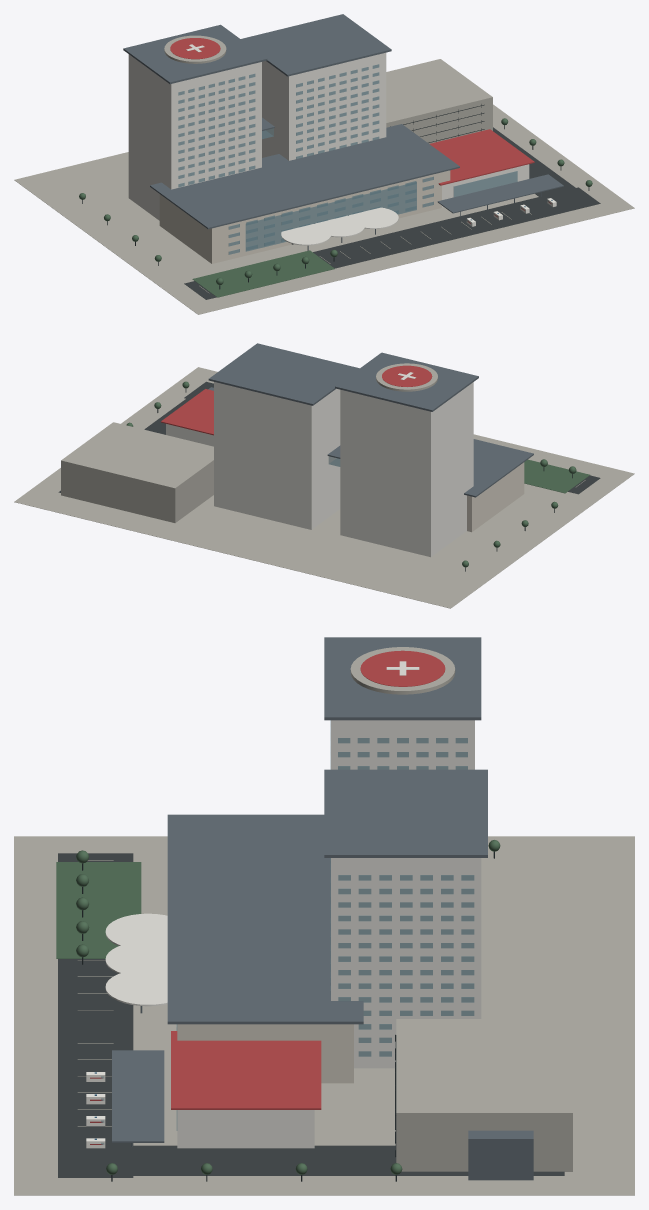
The picture shows the model from 3 angles, top to bottom: view 1: azimuth 30°, elevation 25°; view 2: azimuth 150°, elevation 25°; view 3: azimuth 270°, elevation 25°; orthographic projection. The views are drawn at different scales.
Parts seen in each view (by area): view 1: Meridian University Medical Center: white, Meridian University Medical Center: concrete, Meridian University Medical Center: steel, Meridian University Medical Center: glass, Meridian University Medical Center: limestone, Meridian University Medical Center: road, Meridian University Medical Center: red, Meridian University Medical Center: green, Meridian University Medical Center: dark; view 2: Meridian University Medical Center: concrete, Meridian University Medical Center: white, Meridian University Medical Center: steel, Meridian University Medical Center: red, Meridian University Medical Center: limestone, Meridian University Medical Center: green, Meridian University Medical Center: road; view 3: Meridian University Medical Center: concrete, Meridian University Medical Center: steel, Meridian University Medical Center: white, Meridian University Medical Center: road, Meridian University Medical Center: red, Meridian University Medical Center: glass, Meridian University Medical Center: green, Meridian University Medical Center: limestone, Meridian University Medical Center: ambulance.
Boxes of the visible parts, box(x1,y1,x2,y2) form: Meridian University Medical Center: white: box(128, 44, 529, 245); Meridian University Medical Center: concrete: box(14, 35, 634, 314); Meridian University Medical Center: steel: box(123, 14, 563, 250); Meridian University Medical Center: glass: box(178, 64, 548, 254); Meridian University Medical Center: limestone: box(159, 170, 450, 263); Meridian University Medical Center: road: box(184, 127, 600, 299); Meridian University Medical Center: red: box(170, 38, 551, 223); Meridian University Medical Center: green: box(79, 118, 592, 297); Meridian University Medical Center: dark: box(82, 104, 589, 289); Meridian University Medical Center: concrete: box(14, 363, 634, 608); Meridian University Medical Center: white: box(166, 372, 473, 557); Meridian University Medical Center: steel: box(208, 343, 533, 497); Meridian University Medical Center: red: box(161, 365, 432, 435); Meridian University Medical Center: limestone: box(467, 462, 524, 532); Meridian University Medical Center: green: box(126, 381, 589, 567); Meridian University Medical Center: road: box(58, 381, 600, 494); Meridian University Medical Center: concrete: box(14, 647, 634, 1195); Meridian University Medical Center: steel: box(112, 637, 533, 1180); Meridian University Medical Center: white: box(105, 661, 481, 1148); Meridian University Medical Center: road: box(58, 853, 564, 1177); Meridian University Medical Center: red: box(90, 650, 445, 1144); Meridian University Medical Center: glass: box(101, 720, 474, 1144); Meridian University Medical Center: green: box(56, 840, 500, 1174); Meridian University Medical Center: limestone: box(177, 1024, 353, 1083); Meridian University Medical Center: ambulance: box(86, 1072, 105, 1148).
Bounding box in the file's own units: 260 × 88.15 × 190.
